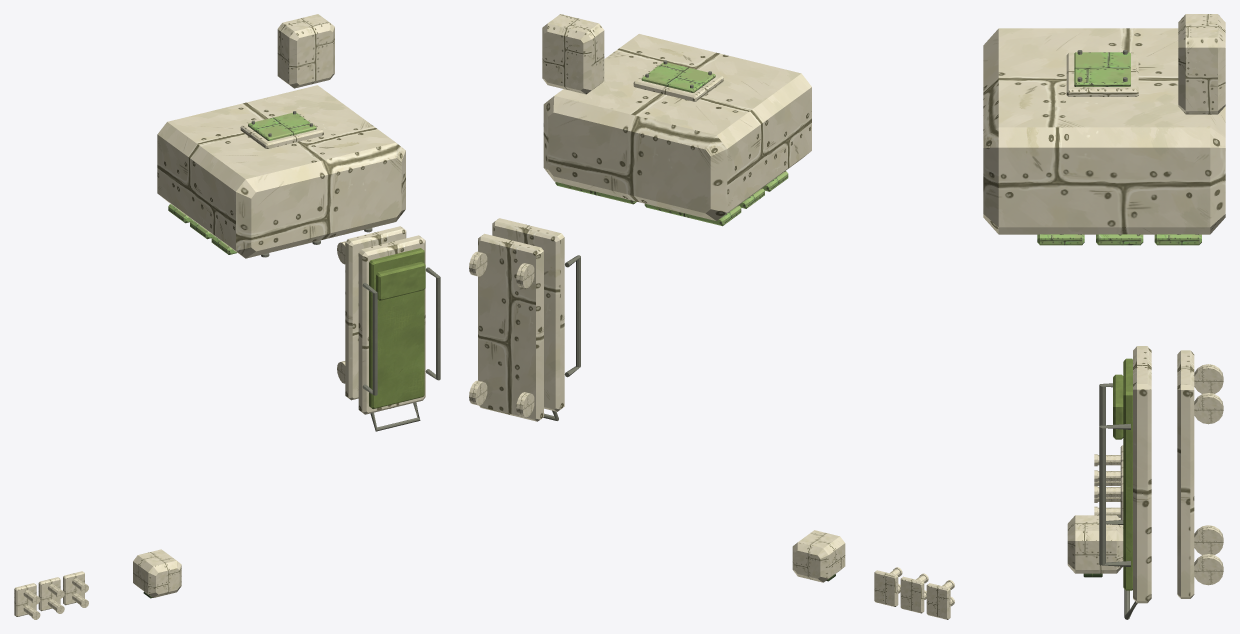
Rendered from ECHO7_16_Equipo_Clonacion.obj.
3 renders of one model, left to right at view 1: azimuth 30°, elevation 25°; view 2: azimuth 150°, elevation 25°; view 3: azimuth 270°, elevation 25°, orthographic. The views are drawn at different scales.
Visible parts, largest first — view 1: ECHO7_16_Equipo_Clonacion__Banco_genetico_armario_01, ECHO7_16_Equipo_Clonacion__Carro_colchon_01, ECHO7_16_Equipo_Clonacion__Contenedor_muestras_sellado_01, ECHO7_16_Equipo_Clonacion__Carro_litera_01, ECHO7_16_Equipo_Clonacion__Carro_transferencia_base_01, ECHO7_16_Equipo_Clonacion__Escaner_genetico_01, ECHO7_16_Equipo_Clonacion__Almohada_transferencia_01, ECHO7_16_Equipo_Clonacion__Panel_R04_BANCO_GENETICO_01, ECHO7_16_Equipo_Clonacion__Marco_R04_BANCO_GENETICO_01, ECHO7_16_Equipo_Clonacion__Baranda_transferencia_01, ECHO7_16_Equipo_Clonacion__Baranda_transferencia_02; view 2: ECHO7_16_Equipo_Clonacion__Banco_genetico_armario_01, ECHO7_16_Equipo_Clonacion__Carro_transferencia_base_01, ECHO7_16_Equipo_Clonacion__Carro_litera_01, ECHO7_16_Equipo_Clonacion__Contenedor_muestras_sellado_01, ECHO7_16_Equipo_Clonacion__Escaner_genetico_01, ECHO7_16_Equipo_Clonacion__Panel_R04_BANCO_GENETICO_01, ECHO7_16_Equipo_Clonacion__Marco_R04_BANCO_GENETICO_01, ECHO7_16_Equipo_Clonacion__Bandeja_muestras_03, ECHO7_16_Equipo_Clonacion__Bandeja_muestras_01, ECHO7_16_Equipo_Clonacion__Bandeja_muestras_02, ECHO7_16_Equipo_Clonacion__Baranda_transferencia_01; view 3: ECHO7_16_Equipo_Clonacion__Banco_genetico_armario_01, ECHO7_16_Equipo_Clonacion__Carro_litera_01, ECHO7_16_Equipo_Clonacion__Contenedor_muestras_sellado_01, ECHO7_16_Equipo_Clonacion__Carro_transferencia_base_01, ECHO7_16_Equipo_Clonacion__Escaner_genetico_01, ECHO7_16_Equipo_Clonacion__Carro_colchon_01, ECHO7_16_Equipo_Clonacion__Panel_R04_BANCO_GENETICO_01, ECHO7_16_Equipo_Clonacion__Marco_R04_BANCO_GENETICO_01, ECHO7_16_Equipo_Clonacion__Baranda_transferencia_02, ECHO7_16_Equipo_Clonacion__Rueda_transferencia_04, ECHO7_16_Equipo_Clonacion__Rueda_transferencia_03, ECHO7_16_Equipo_Clonacion__Rueda_transferencia_01 (+6 smaller).
Part boxes in pixels (x1,y1,x2,y2): ECHO7_16_Equipo_Clonacion__Banco_genetico_armario_01: [157, 85, 405, 258]; ECHO7_16_Equipo_Clonacion__Carro_colchon_01: [369, 248, 424, 408]; ECHO7_16_Equipo_Clonacion__Contenedor_muestras_sellado_01: [277, 14, 334, 88]; ECHO7_16_Equipo_Clonacion__Carro_litera_01: [358, 235, 425, 414]; ECHO7_16_Equipo_Clonacion__Carro_transferencia_base_01: [345, 226, 406, 400]; ECHO7_16_Equipo_Clonacion__Escaner_genetico_01: [133, 549, 181, 597]; ECHO7_16_Equipo_Clonacion__Almohada_transferencia_01: [376, 262, 425, 300]; ECHO7_16_Equipo_Clonacion__Panel_R04_BANCO_GENETICO_01: [248, 113, 316, 140]; ECHO7_16_Equipo_Clonacion__Marco_R04_BANCO_GENETICO_01: [240, 111, 323, 148]; ECHO7_16_Equipo_Clonacion__Baranda_transferencia_01: [362, 283, 377, 395]; ECHO7_16_Equipo_Clonacion__Baranda_transferencia_02: [425, 267, 440, 380]; ECHO7_16_Equipo_Clonacion__Banco_genetico_armario_01: [543, 34, 811, 220]; ECHO7_16_Equipo_Clonacion__Carro_transferencia_base_01: [478, 233, 543, 421]; ECHO7_16_Equipo_Clonacion__Carro_litera_01: [492, 218, 564, 411]; ECHO7_16_Equipo_Clonacion__Contenedor_muestras_sellado_01: [542, 14, 604, 94]; ECHO7_16_Equipo_Clonacion__Escaner_genetico_01: [792, 530, 845, 582]; ECHO7_16_Equipo_Clonacion__Panel_R04_BANCO_GENETICO_01: [641, 62, 715, 92]; ECHO7_16_Equipo_Clonacion__Marco_R04_BANCO_GENETICO_01: [633, 61, 723, 101]; ECHO7_16_Equipo_Clonacion__Bandeja_muestras_03: [874, 570, 898, 606]; ECHO7_16_Equipo_Clonacion__Bandeja_muestras_01: [926, 583, 950, 619]; ECHO7_16_Equipo_Clonacion__Bandeja_muestras_02: [900, 576, 924, 613]; ECHO7_16_Equipo_Clonacion__Baranda_transferencia_01: [564, 255, 580, 377]; ECHO7_16_Equipo_Clonacion__Banco_genetico_armario_01: [983, 28, 1225, 234]; ECHO7_16_Equipo_Clonacion__Carro_litera_01: [1133, 346, 1151, 603]; ECHO7_16_Equipo_Clonacion__Contenedor_muestras_sellado_01: [1178, 14, 1225, 114]; ECHO7_16_Equipo_Clonacion__Carro_transferencia_base_01: [1177, 350, 1194, 598]; ECHO7_16_Equipo_Clonacion__Escaner_genetico_01: [1067, 515, 1123, 573]; ECHO7_16_Equipo_Clonacion__Carro_colchon_01: [1123, 358, 1132, 590]; ECHO7_16_Equipo_Clonacion__Panel_R04_BANCO_GENETICO_01: [1074, 52, 1130, 86]; ECHO7_16_Equipo_Clonacion__Marco_R04_BANCO_GENETICO_01: [1066, 52, 1138, 96]; ECHO7_16_Equipo_Clonacion__Baranda_transferencia_02: [1099, 424, 1130, 566]; ECHO7_16_Equipo_Clonacion__Rueda_transferencia_04: [1194, 393, 1223, 424]; ECHO7_16_Equipo_Clonacion__Rueda_transferencia_03: [1194, 554, 1223, 585]; ECHO7_16_Equipo_Clonacion__Rueda_transferencia_01: [1194, 525, 1223, 554].
Bounding box in the file's own units: 6.88 × 7.8 × 2.56.
Materials: 5 (5 with a texture image).
